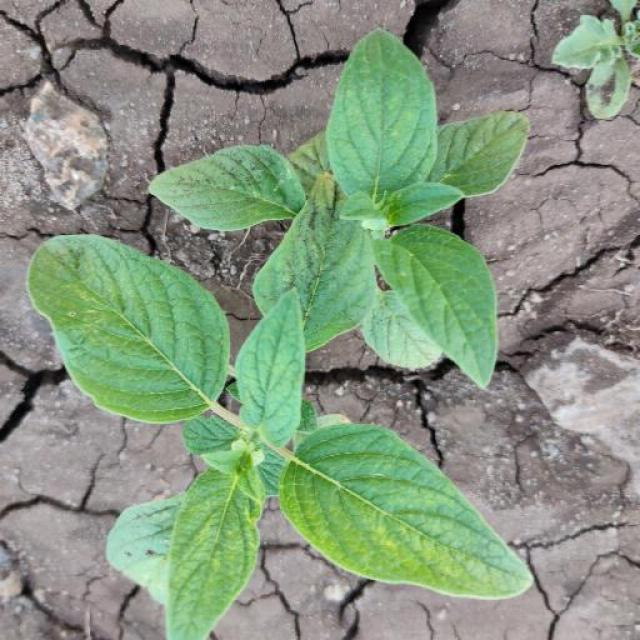crop: (26, 236, 539, 640), (130, 34, 535, 396)
